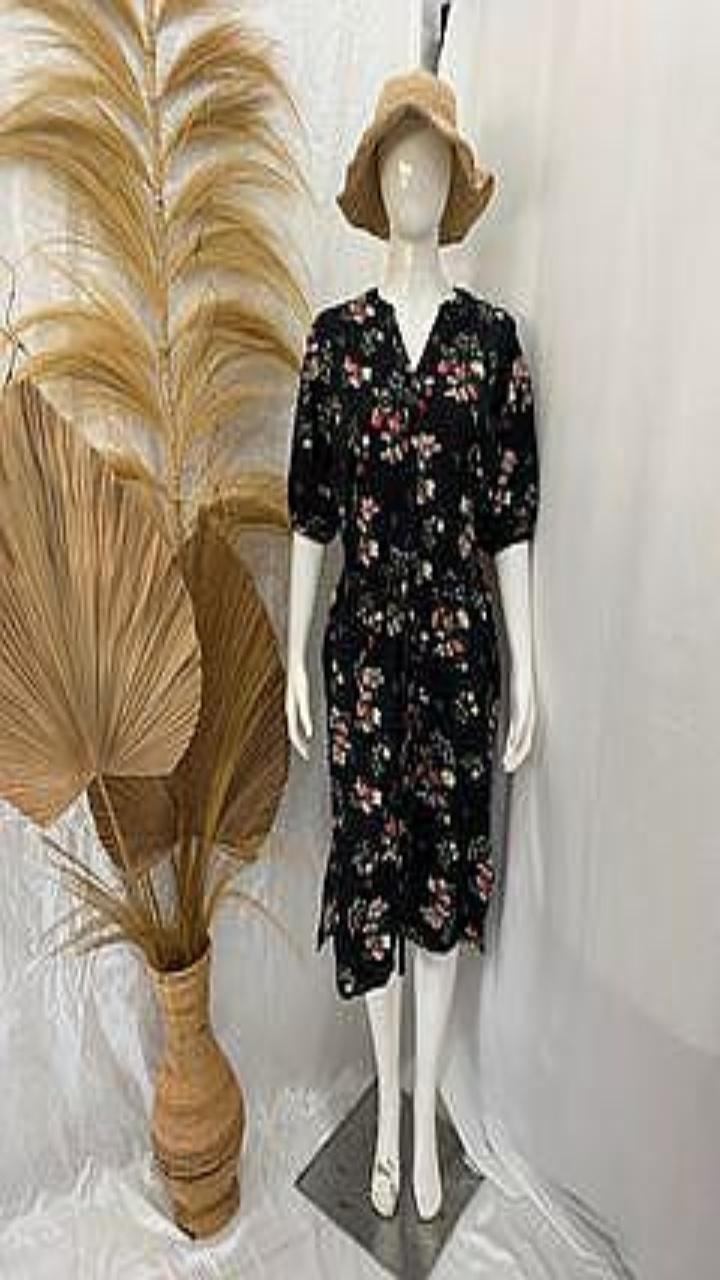Dresses: (288, 287, 538, 996)
